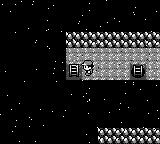captura: (66, 48, 159, 80)
main: (81, 61, 94, 76)
no-caminable: (1, 0, 160, 143), (66, 32, 160, 48), (98, 128, 160, 143)
puerta: (131, 63, 146, 79), (67, 64, 81, 79)
